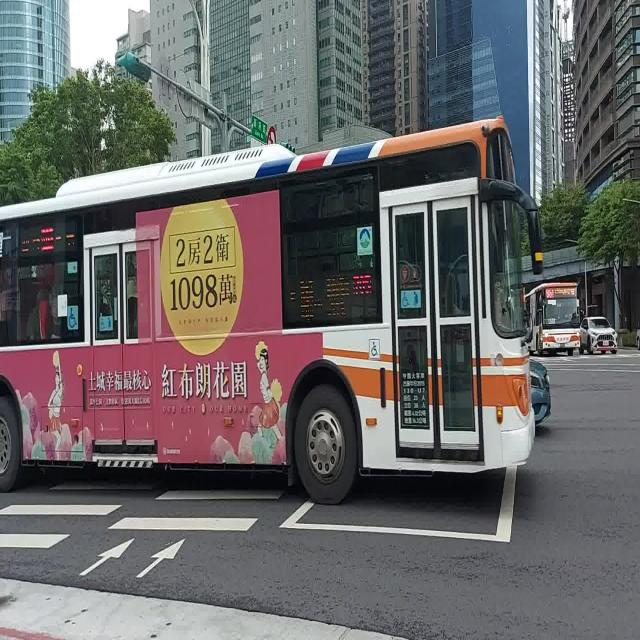bus: (0, 118, 540, 502)
car: (525, 282, 580, 356), (580, 316, 618, 353)
crosswalk: (107, 488, 287, 533), (0, 501, 126, 551)
